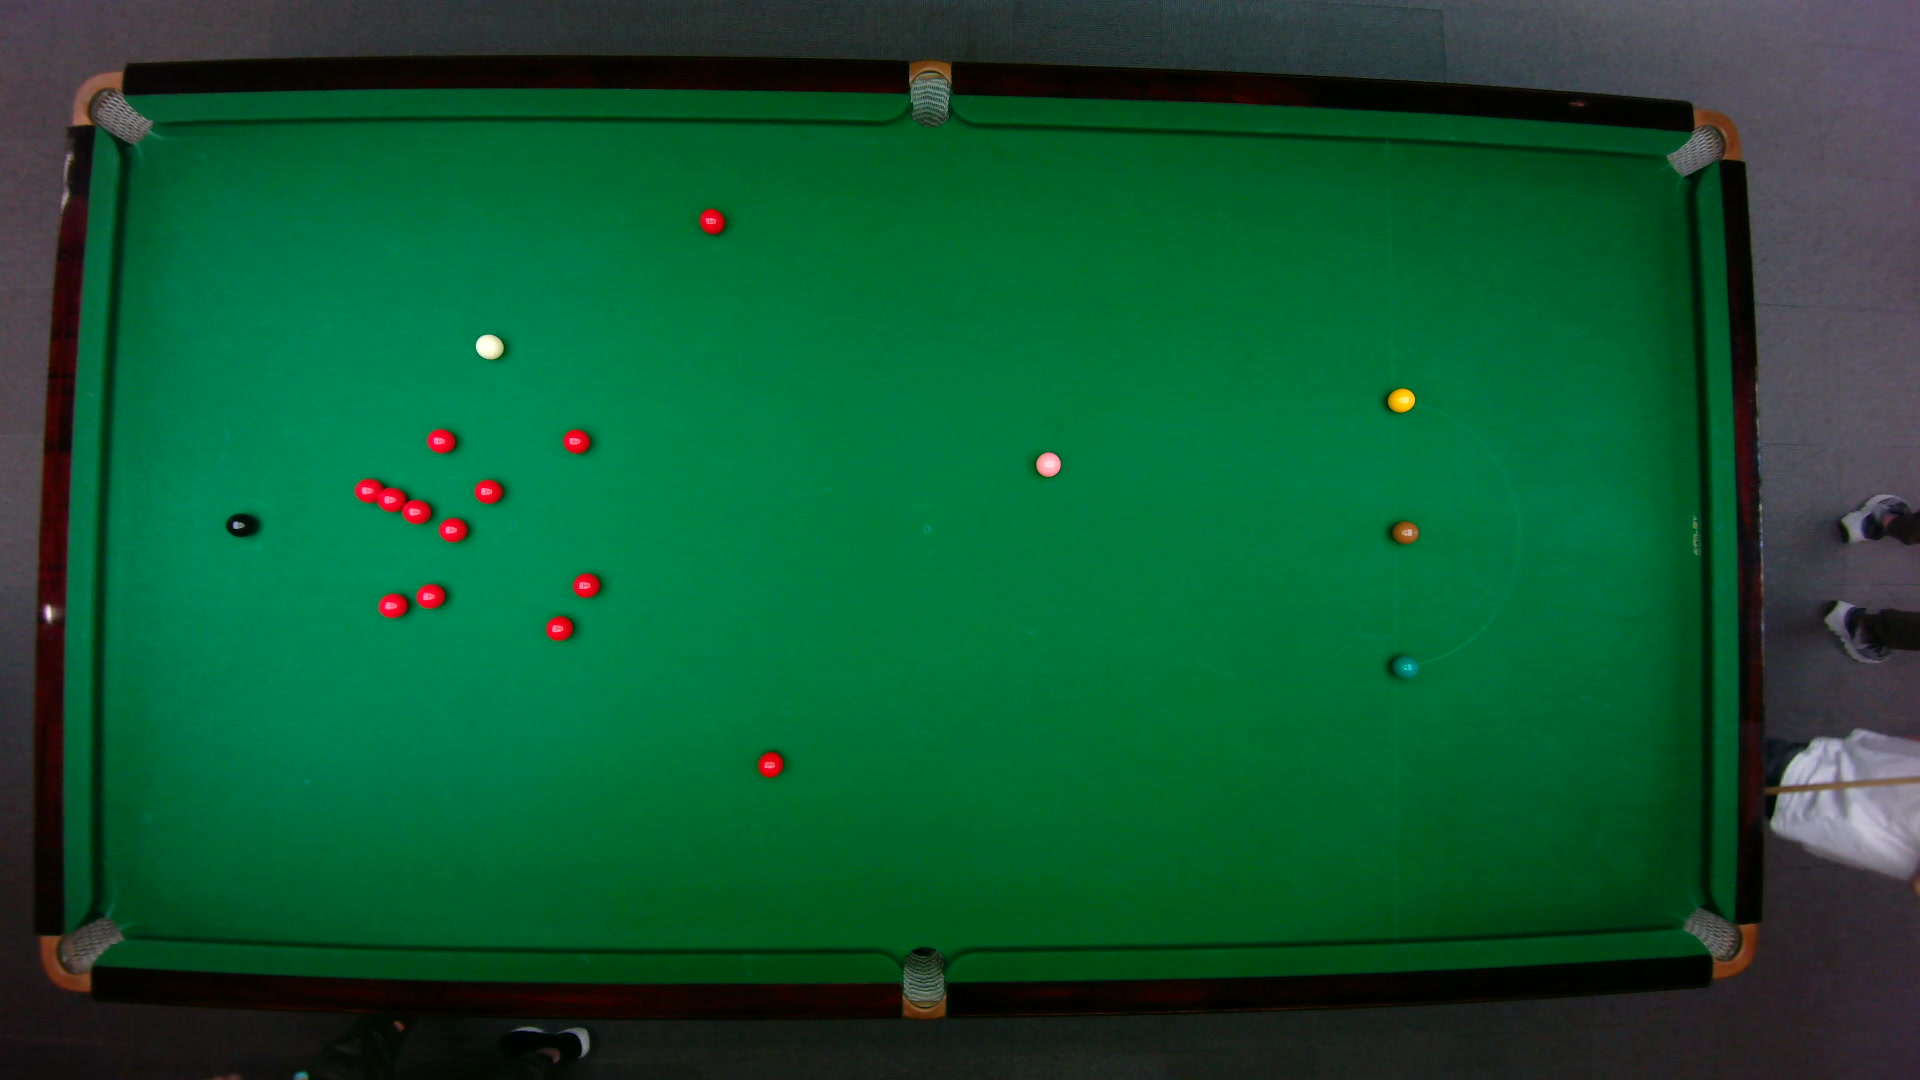bag: (37, 914, 127, 993), (69, 69, 153, 145), (1677, 905, 1758, 978), (1663, 107, 1742, 177), (901, 944, 944, 1021), (909, 58, 949, 128)
black: (223, 512, 256, 537)
brown: (1389, 520, 1419, 545)
green: (1389, 651, 1419, 679)
pink: (1033, 448, 1062, 477)
red: (413, 580, 446, 609), (376, 591, 407, 618), (436, 516, 469, 542), (756, 749, 785, 778), (698, 206, 727, 235), (543, 615, 574, 642), (352, 476, 384, 502), (570, 571, 601, 597), (425, 427, 456, 454), (400, 497, 431, 524), (376, 485, 406, 512), (560, 427, 591, 454), (472, 477, 502, 502)
white: (473, 331, 505, 360)
yellow: (1385, 385, 1416, 413)
zone: (1389, 401, 1519, 666)
